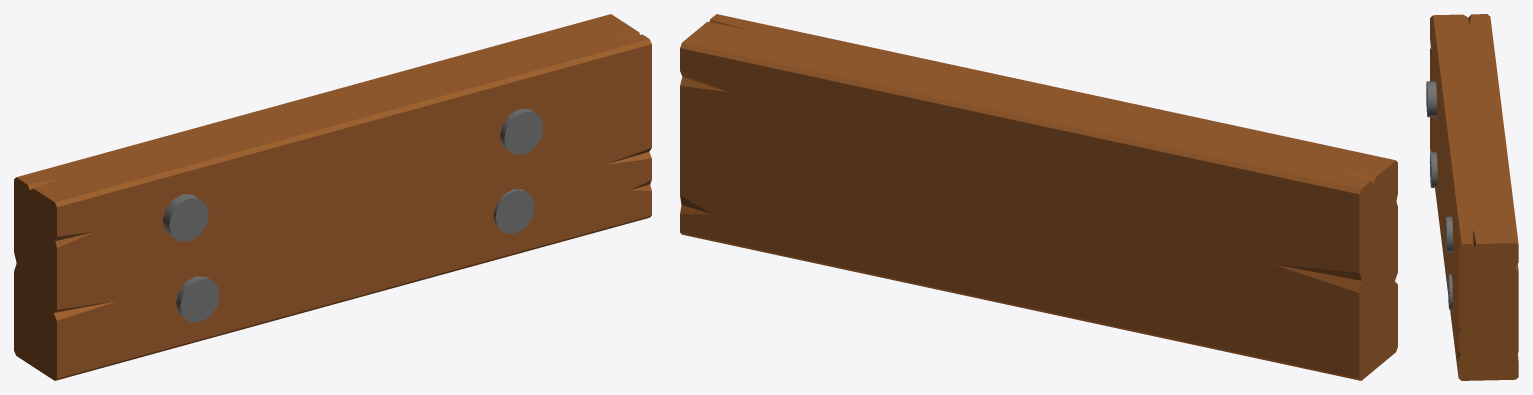
File: Building_Modular_Wood_Brace_Beam_01.fbx
3 renders of one model, left to right at view 1: azimuth 30°, elevation 25°; view 2: azimuth 150°, elevation 25°; view 3: azimuth 270°, elevation 25°, orthographic. The views are drawn at different scales.
Visible parts, largest first — view 1: Model; view 2: Model; view 3: Model.
Part boxes in pixels (left/top/right/bottom): Model: left=14, top=14, right=651, bottom=380; Model: left=680, top=14, right=1397, bottom=380; Model: left=1426, top=14, right=1518, bottom=380.
Bounding box in the file's own units: 204 × 56.4 × 34.65.
